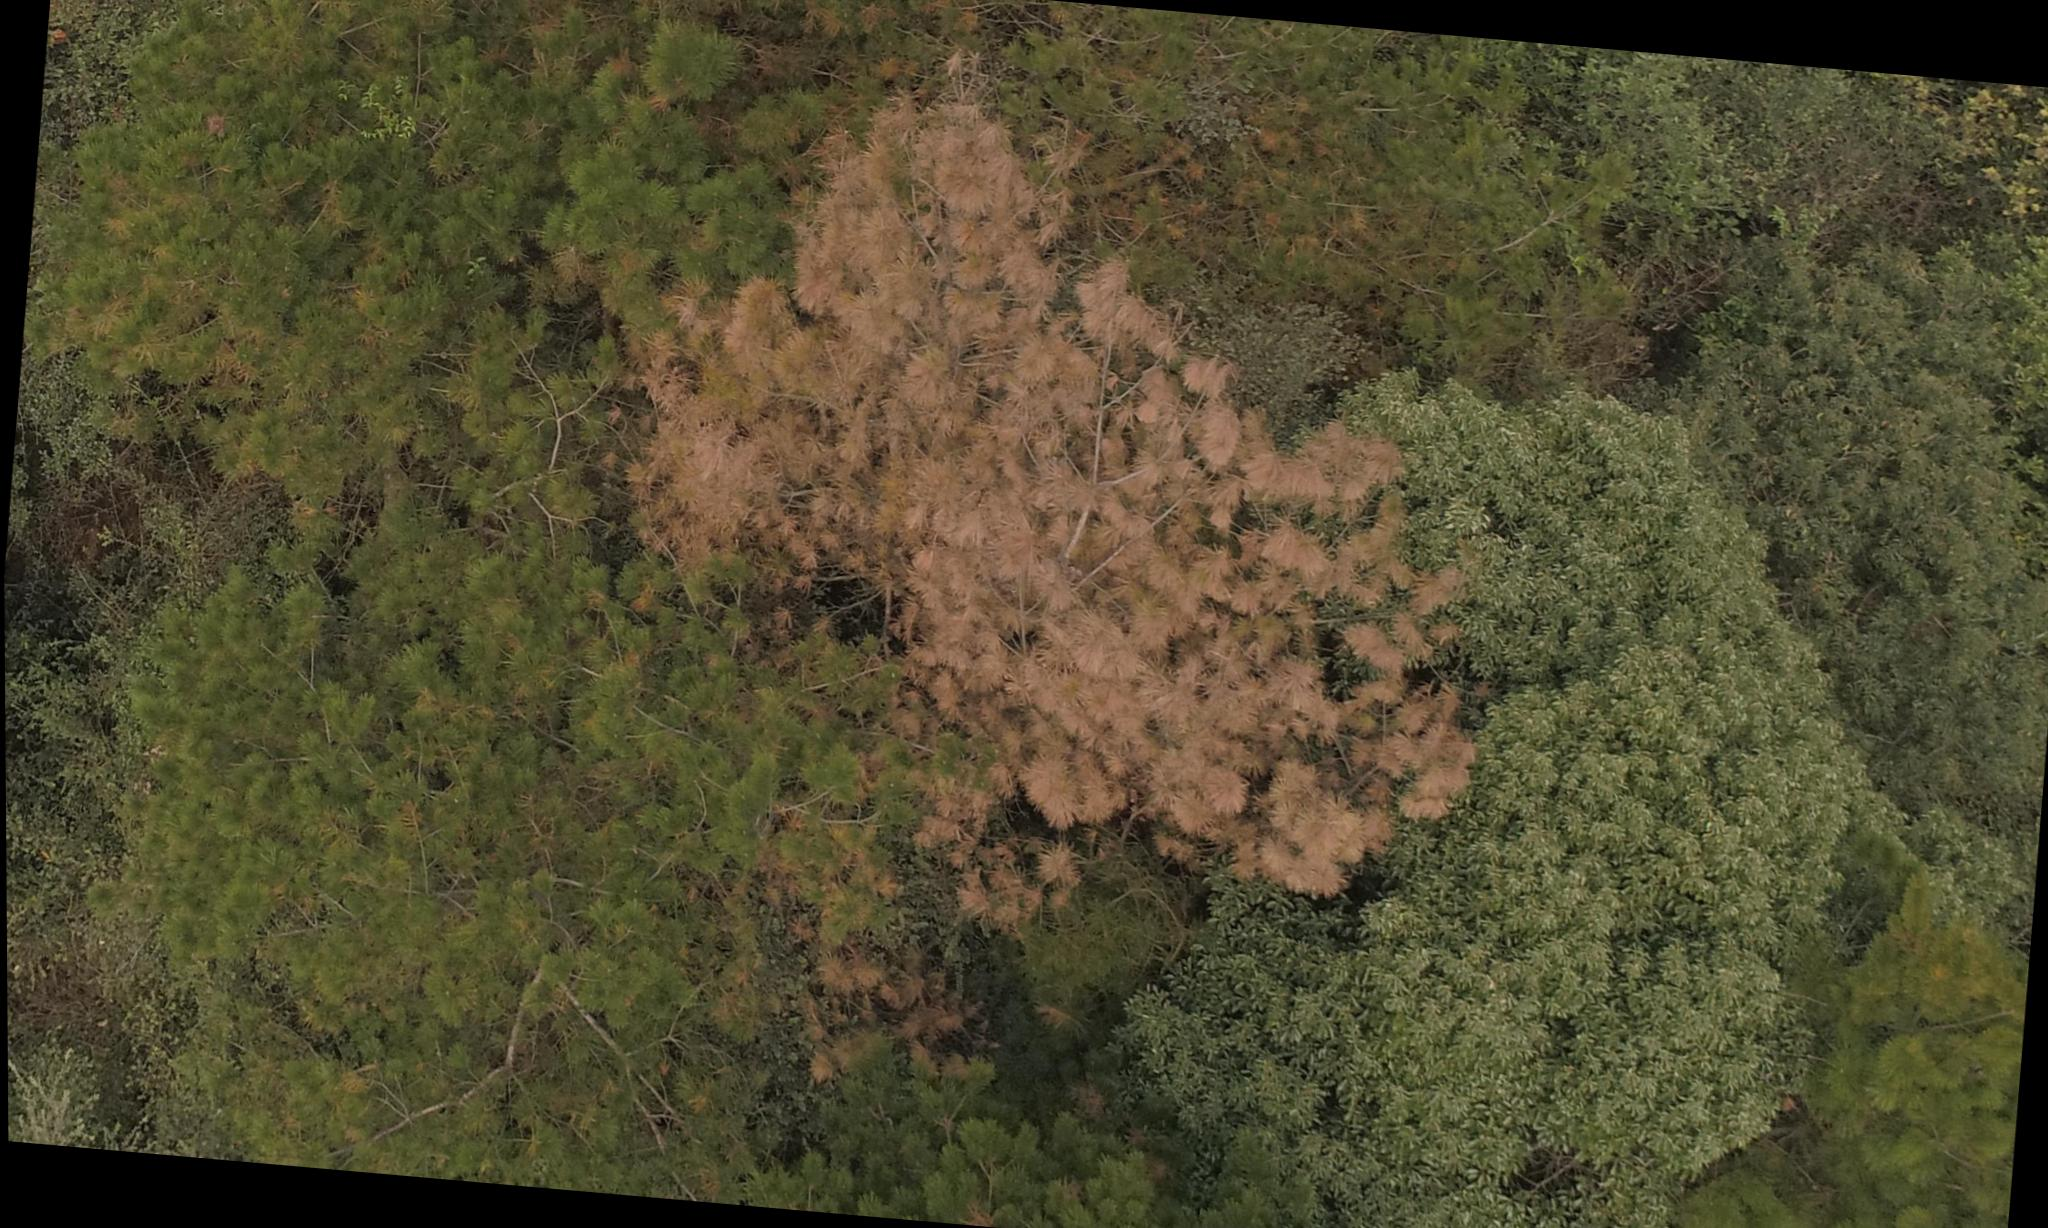heavy: (601, 77, 1494, 939)
